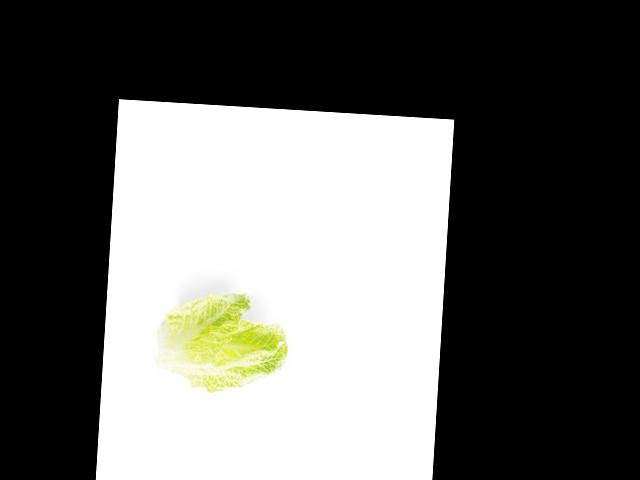lettuce: (177, 292, 292, 398)
